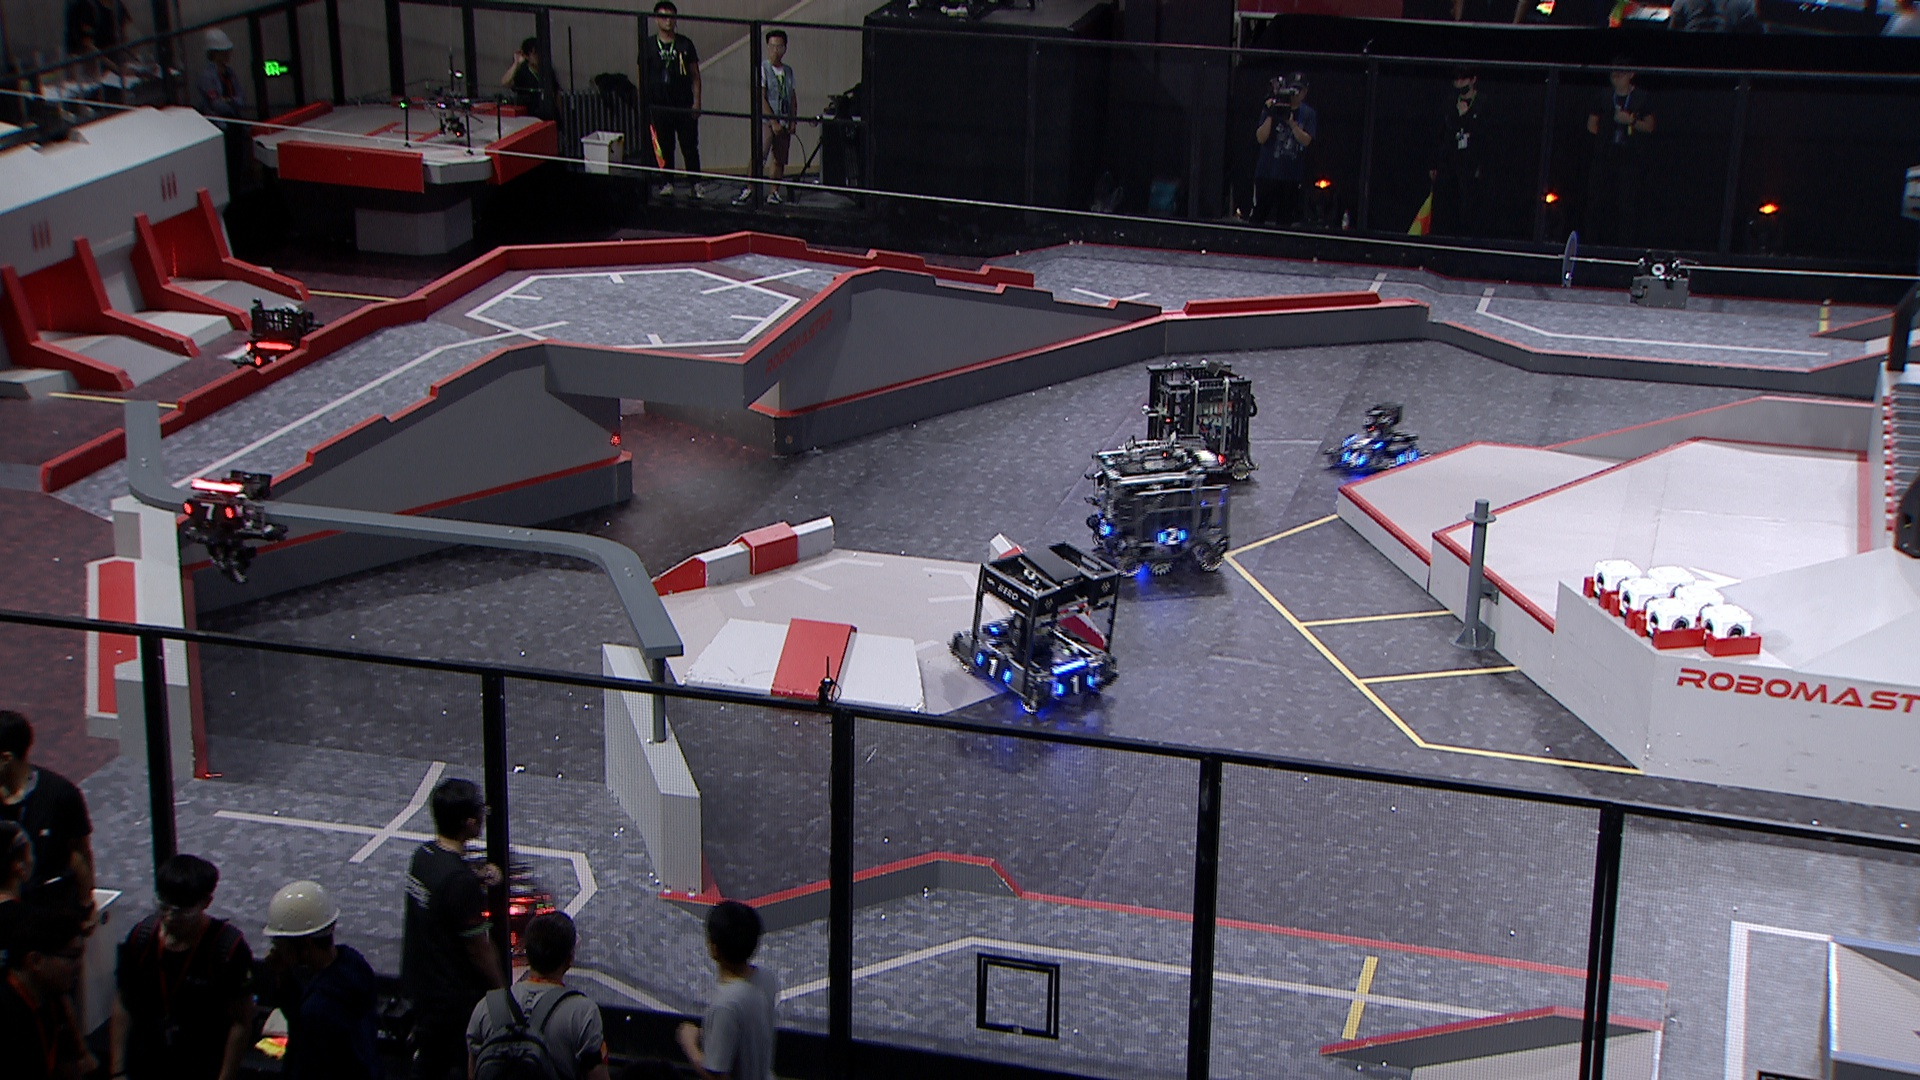armor: (182, 498, 235, 524), (975, 651, 1011, 684), (506, 880, 533, 916), (1058, 674, 1095, 698), (1155, 526, 1188, 549), (251, 353, 282, 371), (1093, 517, 1116, 541), (1340, 450, 1367, 467), (1346, 436, 1382, 450), (1395, 447, 1416, 463)
car: (939, 541, 1117, 713), (1083, 434, 1234, 578), (1141, 353, 1255, 484), (438, 851, 558, 959), (225, 301, 330, 386), (1320, 401, 1427, 473)
watcher: (178, 469, 286, 585)
